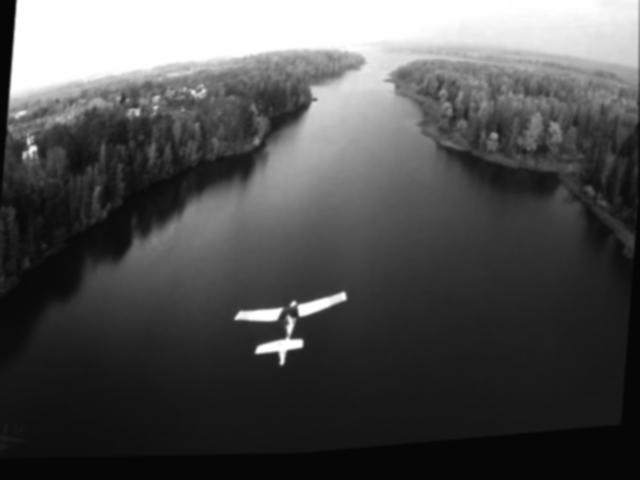hedef: (231, 282, 360, 378)
